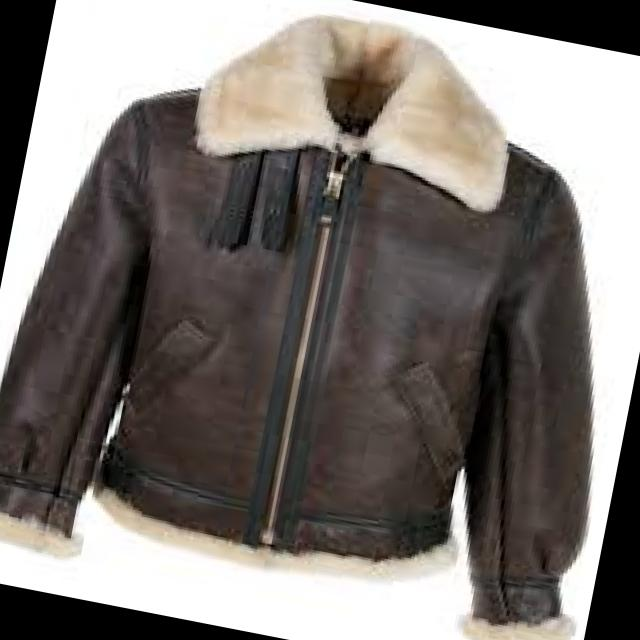Jacket: (8, 0, 640, 625)
